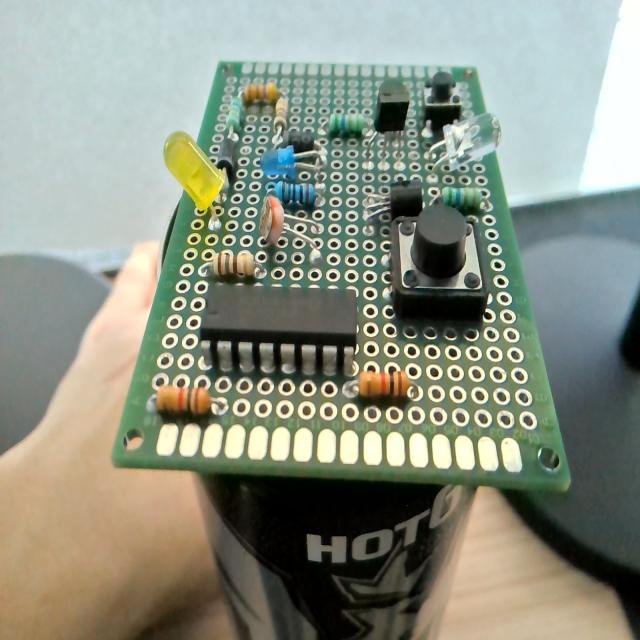IC: (198, 285, 353, 370)
cds: (233, 189, 323, 258)
diode: (274, 131, 332, 153)
led: (163, 130, 230, 222), (423, 114, 508, 168), (260, 145, 322, 179)
resistor: (157, 384, 210, 416), (361, 369, 412, 399), (266, 178, 319, 206), (212, 249, 260, 278), (442, 186, 481, 211), (244, 82, 283, 106), (329, 113, 364, 137), (272, 92, 288, 128)
switch: (390, 209, 490, 320), (423, 71, 460, 129)
transistor: (364, 172, 428, 217), (374, 79, 411, 133)
